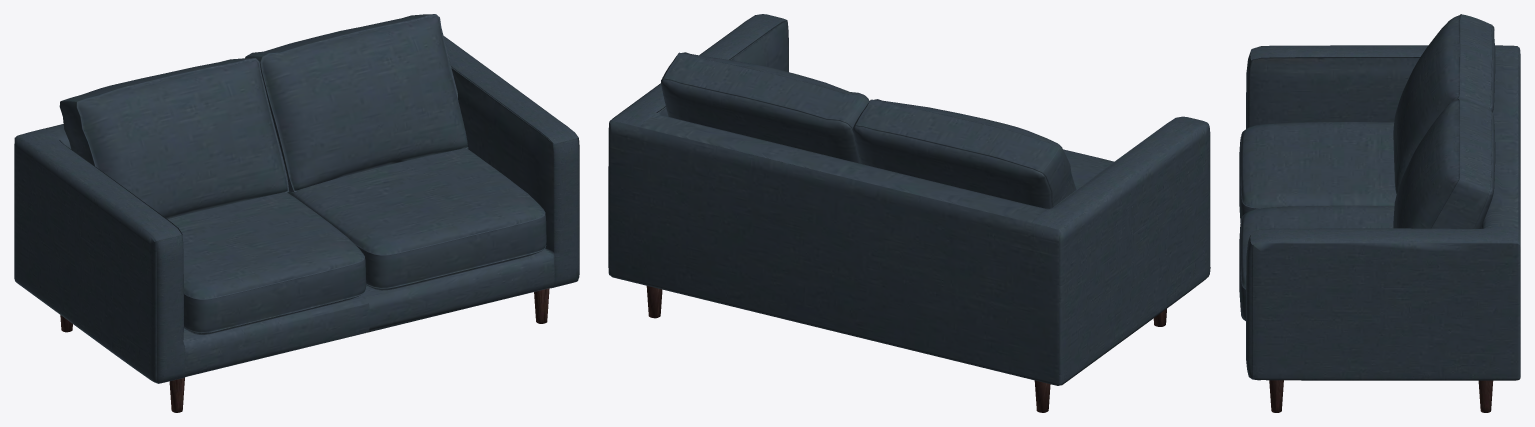
File: sofa_abo_B072C8Q9S8.glb
3 renders of one model, left to right at view 1: azimuth 30°, elevation 25°; view 2: azimuth 150°, elevation 25°; view 3: azimuth 270°, elevation 25°, orthographic. The views are drawn at different scales.
Visible parts, largest first — view 1: RootNode; view 2: RootNode; view 3: RootNode.
Part boxes in pixels (<box>): RootNode: <box>14,14,579,412</box>; RootNode: <box>608,14,1210,412</box>; RootNode: <box>1239,14,1520,412</box>.
Size of the model in its own units: 1.66 by 0.9066 by 0.9992.
Materials: 1 (1 with a texture image).
